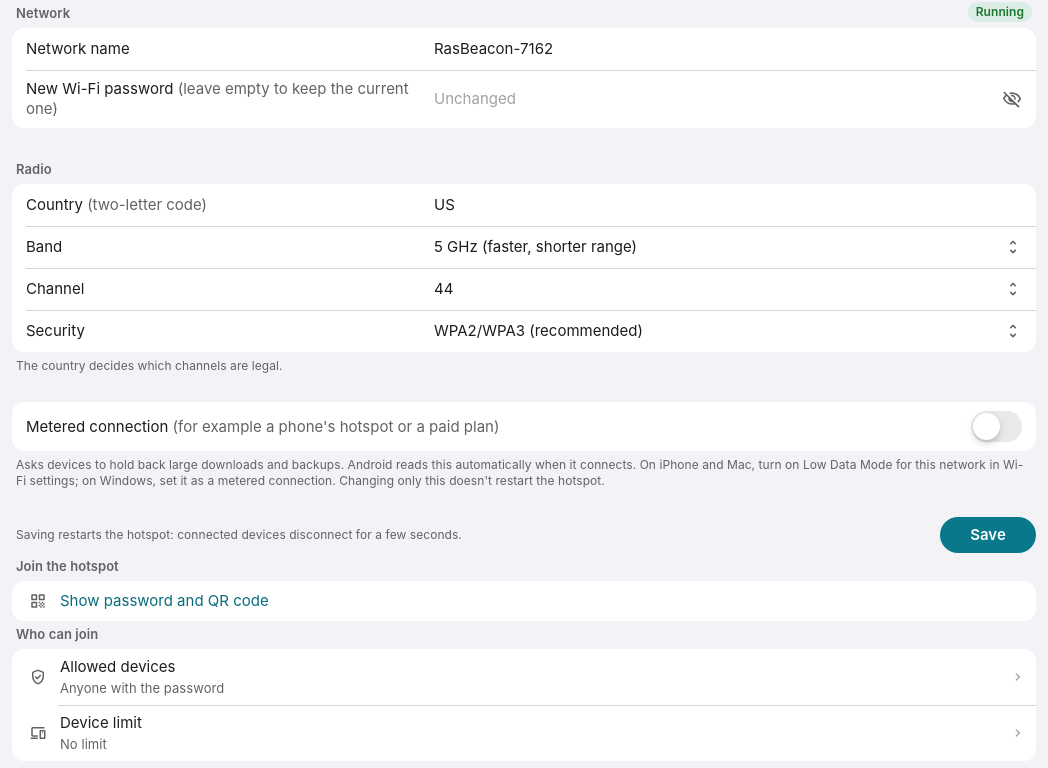
Test: hotspot network › says when only the metered hint changed (no restart)
The image size is (1048, 768).
Click the checkbox labelled "Metered connection".
click(97, 426)  # box [26,411,1022,442]
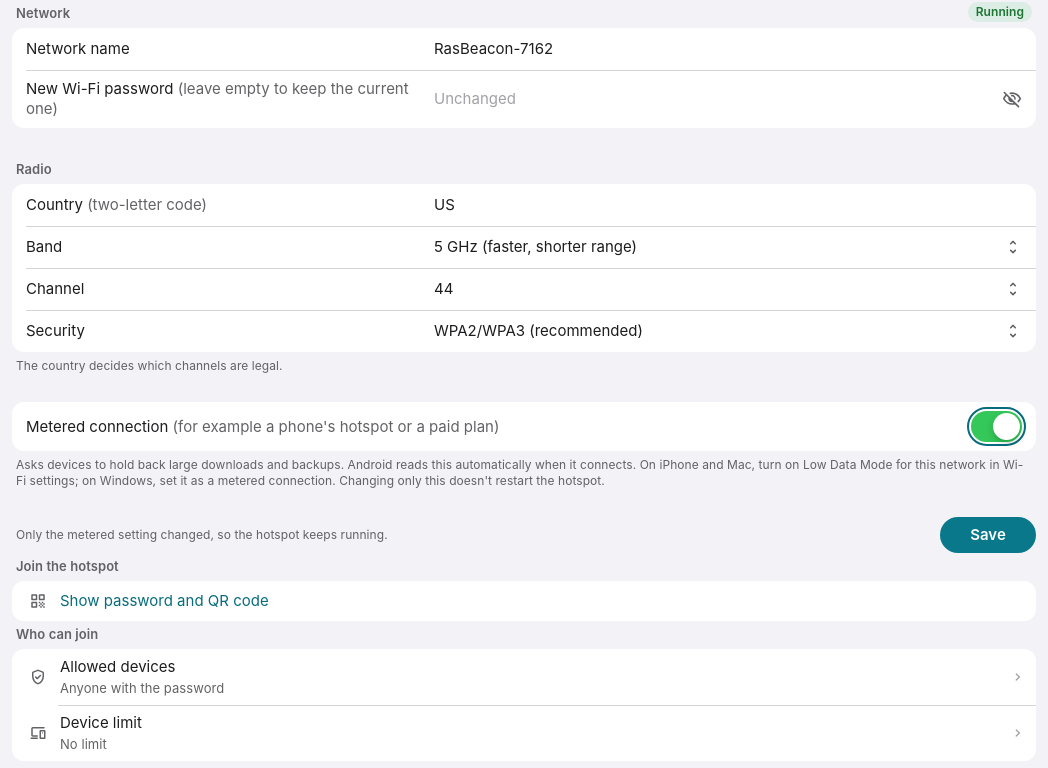
Expected: the text "Only the metered setting changed, so the hotspot keeps running." is shown, [16,527,388,542]
